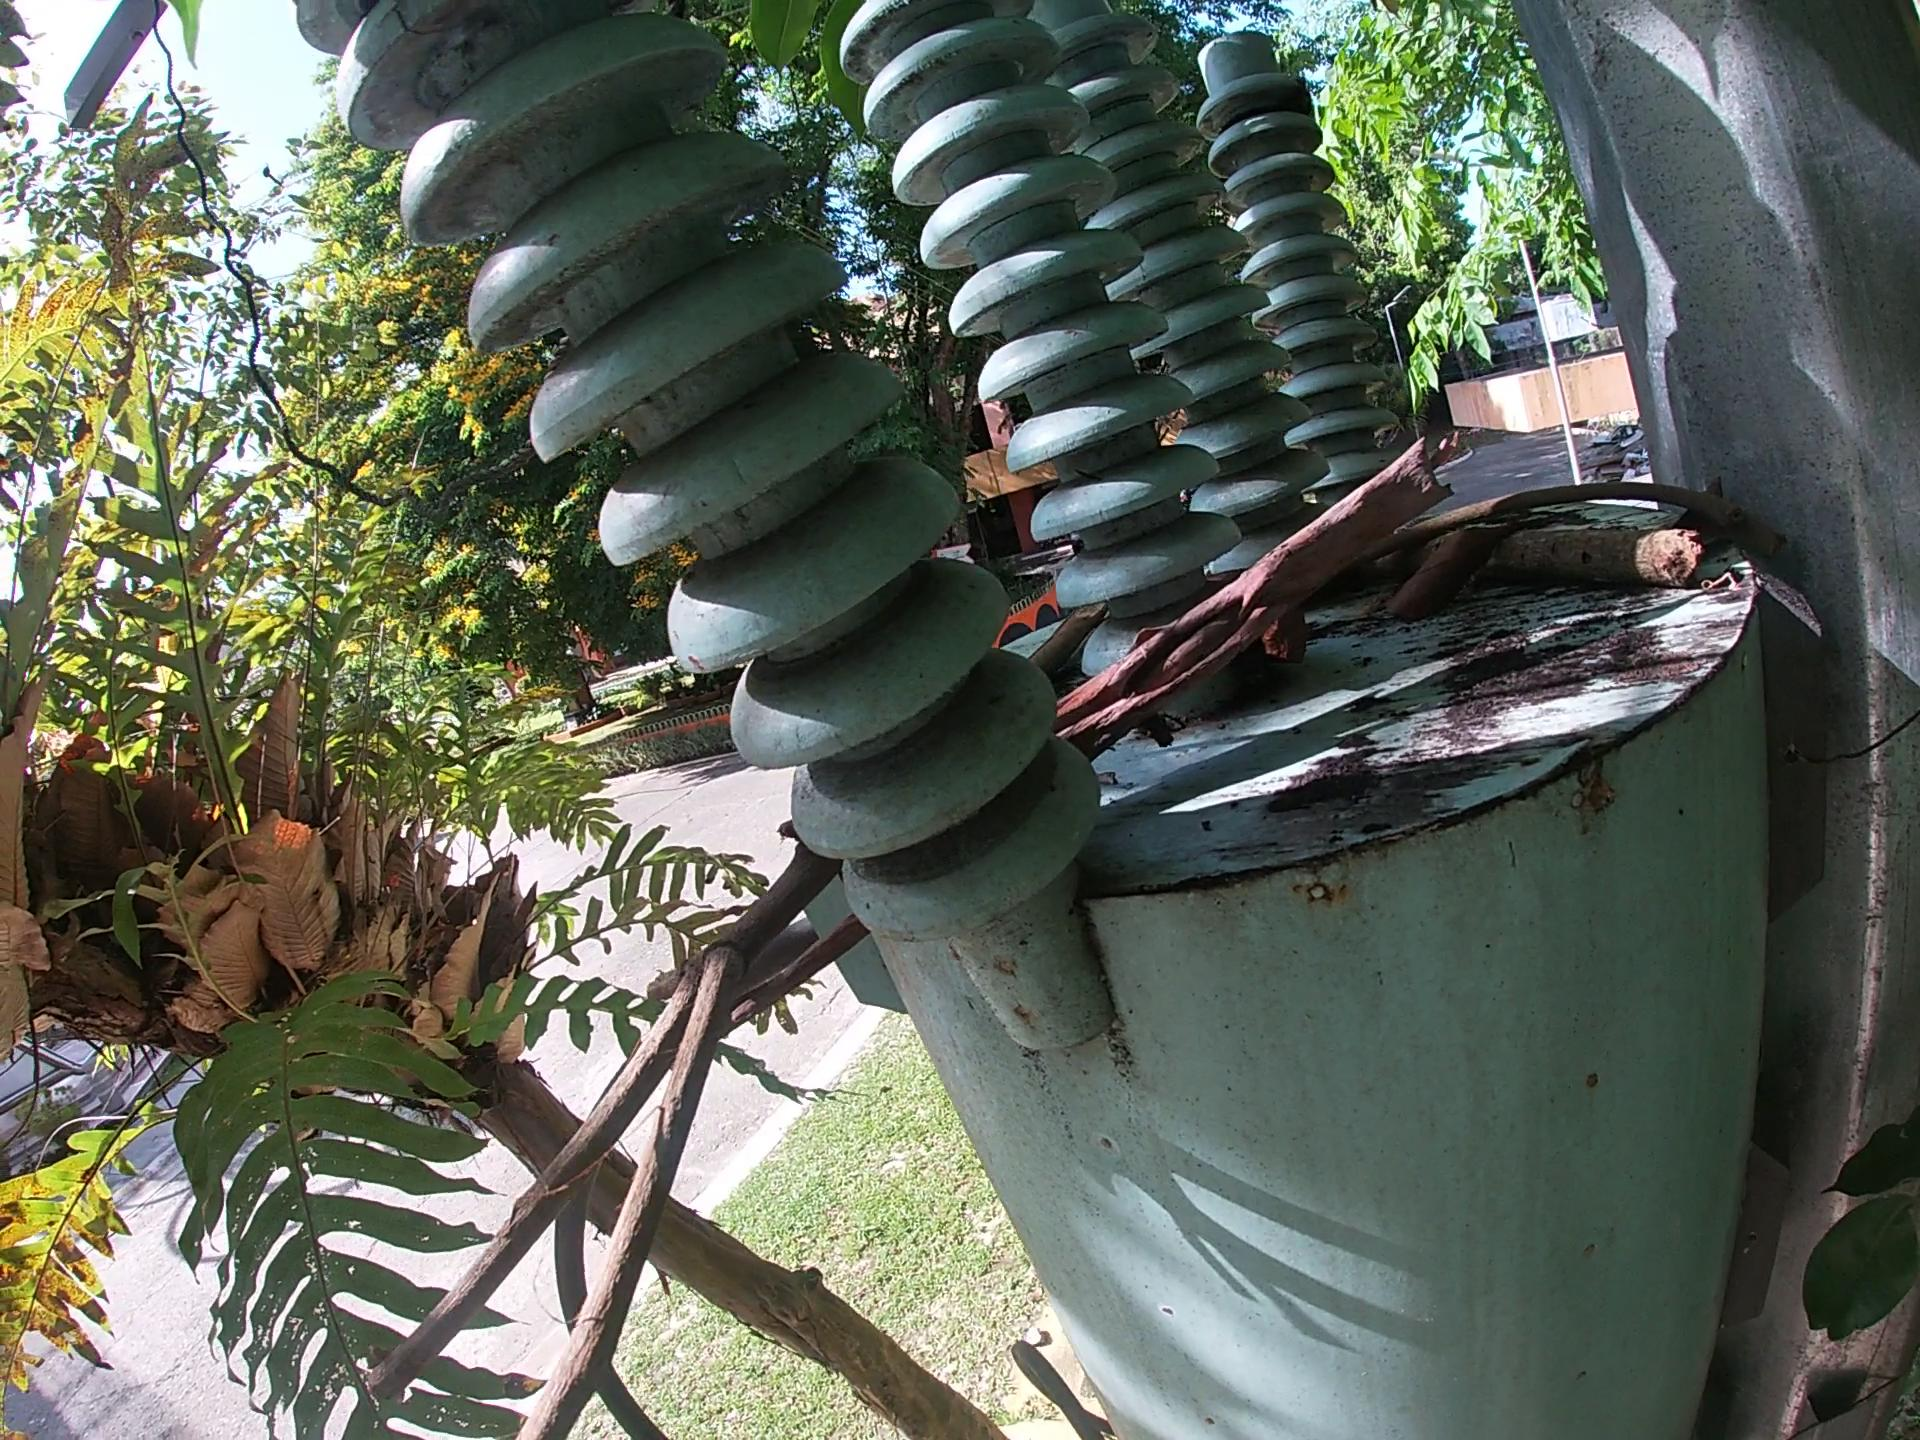leaf: (1370, 516, 1516, 626)
tree branch: (354, 836, 838, 1440), (1042, 421, 1477, 768), (1370, 469, 1795, 566), (1362, 514, 1708, 594), (721, 912, 866, 1032), (1027, 596, 1111, 681)
